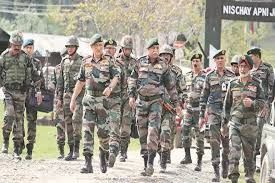gun: (157, 94, 182, 121)
uniform: (134, 54, 167, 165), (83, 54, 116, 164), (1, 46, 28, 158), (230, 74, 260, 171), (207, 64, 230, 179), (58, 54, 82, 159), (113, 52, 135, 158), (160, 60, 181, 170), (182, 64, 205, 162), (25, 54, 44, 157)
